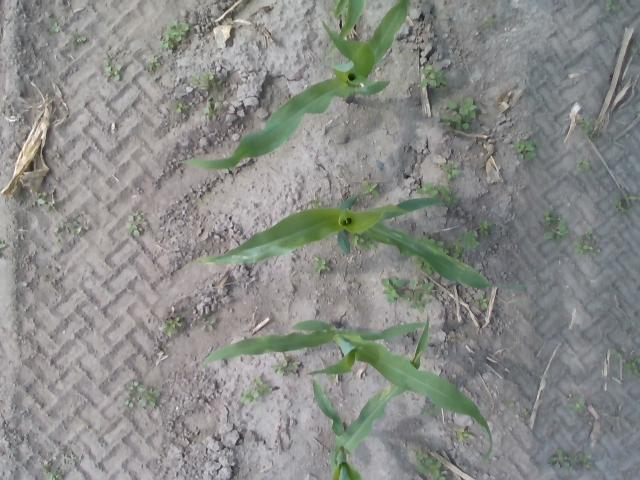Maize: (196, 322, 494, 458), (178, 2, 408, 171), (197, 194, 490, 292), (310, 314, 430, 480), (327, 0, 363, 56)
Weeds: (53, 214, 89, 242), (123, 381, 160, 407), (240, 374, 273, 402), (405, 277, 434, 300), (382, 276, 404, 302), (274, 358, 302, 376), (449, 98, 477, 116), (422, 66, 446, 87), (544, 222, 568, 243), (457, 231, 479, 253), (125, 215, 146, 236), (166, 22, 188, 41), (190, 73, 213, 90), (612, 196, 636, 212), (514, 140, 537, 156), (442, 161, 460, 180), (551, 450, 569, 468), (417, 183, 442, 195), (314, 257, 330, 274), (454, 115, 470, 131), (440, 188, 456, 204), (626, 358, 640, 375), (362, 182, 378, 196), (104, 66, 120, 80), (412, 298, 429, 311), (429, 461, 442, 478), (456, 428, 474, 440), (577, 454, 592, 468), (574, 241, 590, 253), (418, 446, 430, 462), (147, 56, 160, 70), (440, 114, 453, 126), (476, 297, 488, 310), (47, 22, 60, 34), (202, 320, 216, 331), (479, 220, 490, 234), (206, 102, 217, 116), (49, 470, 63, 480), (162, 35, 172, 49), (569, 400, 584, 409), (176, 104, 189, 114), (170, 316, 180, 328), (606, 1, 618, 11), (74, 32, 86, 42), (163, 326, 174, 336), (543, 208, 551, 220), (354, 236, 364, 245), (580, 118, 590, 126), (310, 200, 322, 206), (579, 158, 589, 165), (0, 240, 6, 250), (488, 15, 493, 26), (38, 199, 46, 205)
